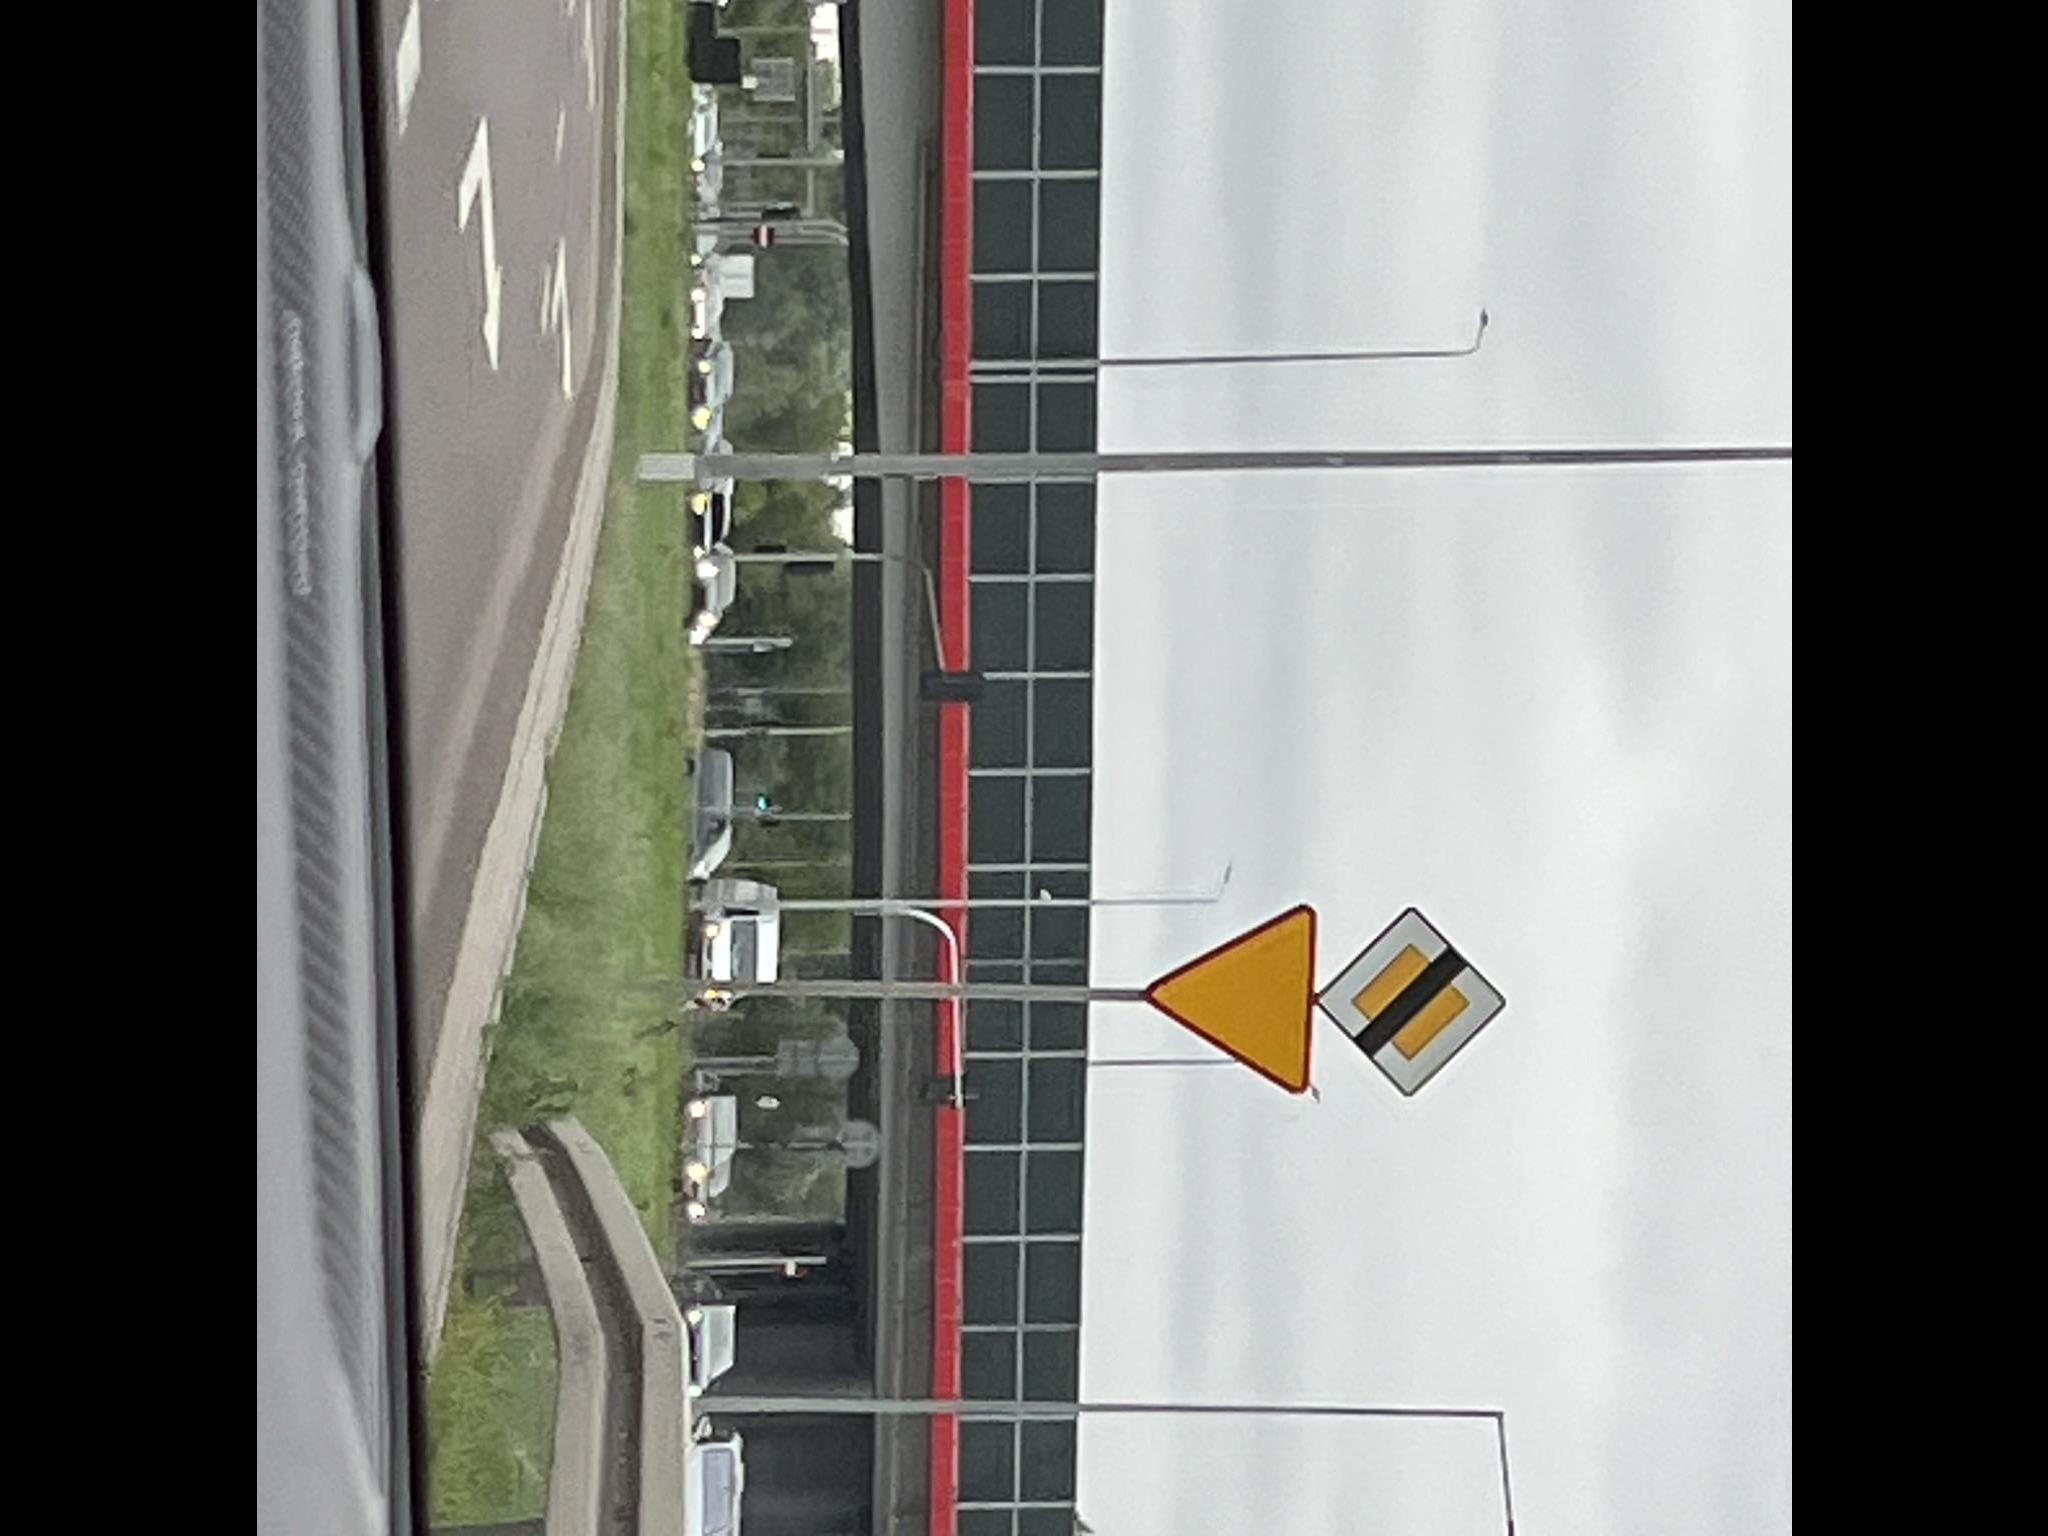information: (1313, 904, 1508, 1104)
warning: (1147, 900, 1316, 1092)
